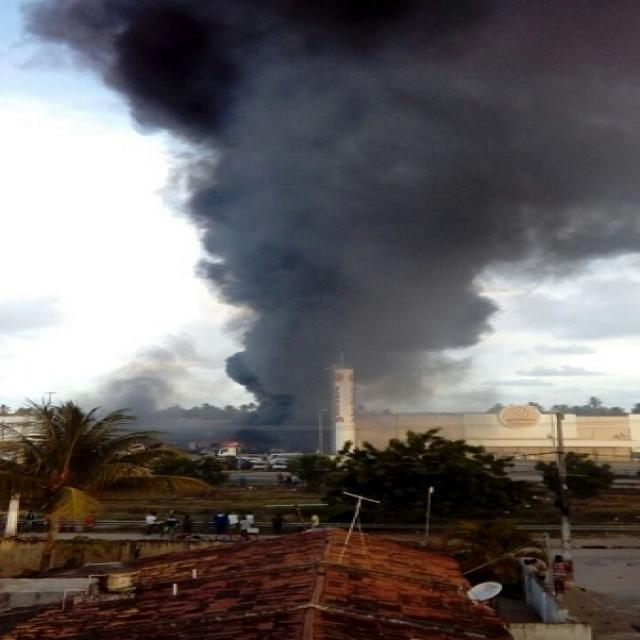Smoke: (118, 13, 640, 436)
